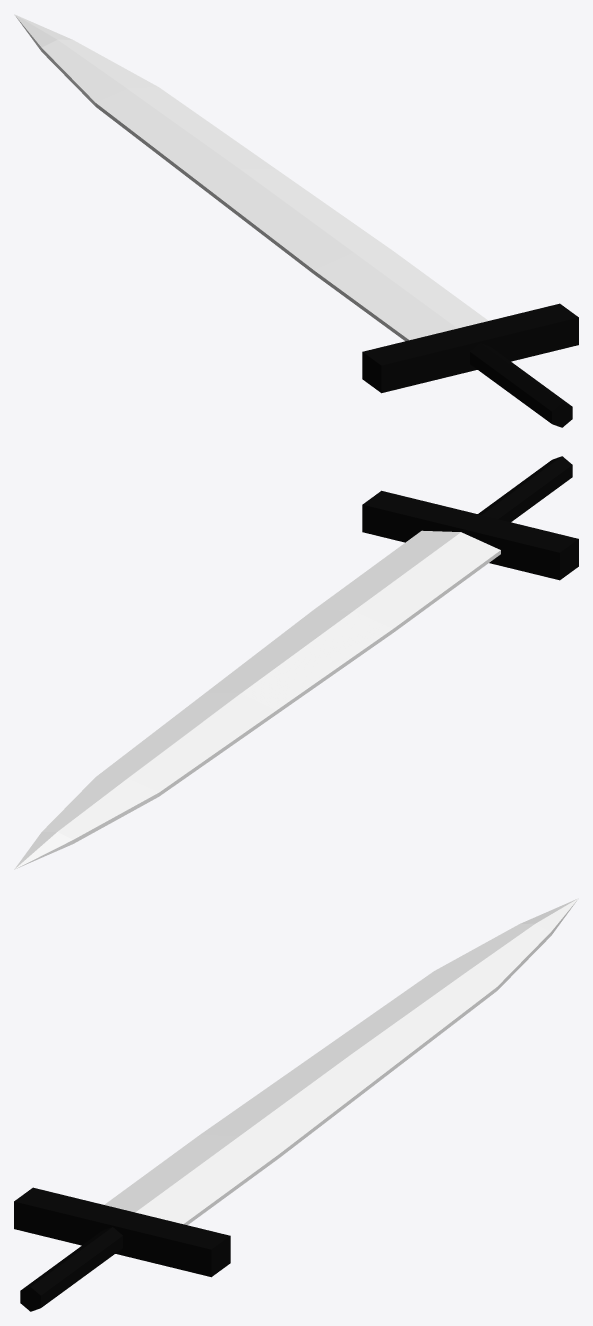
File: Sword.fbx
The picture shows the model from 3 angles, top to bottom: view 1: azimuth 30°, elevation 25°; view 2: azimuth 150°, elevation 25°; view 3: azimuth 330°, elevation 25°; orthographic projection.
Parts seen in each view (by area): view 1: 剣.001; view 2: 剣.001; view 3: 剣.001.
Part boxes in pixels (x1,y1,x2,y2): 剣.001: (14, 14, 578, 427); 剣.001: (14, 456, 578, 869); 剣.001: (14, 898, 578, 1311).
Size of the model in its own units: 12.45 by 1.66 by 59.88.
